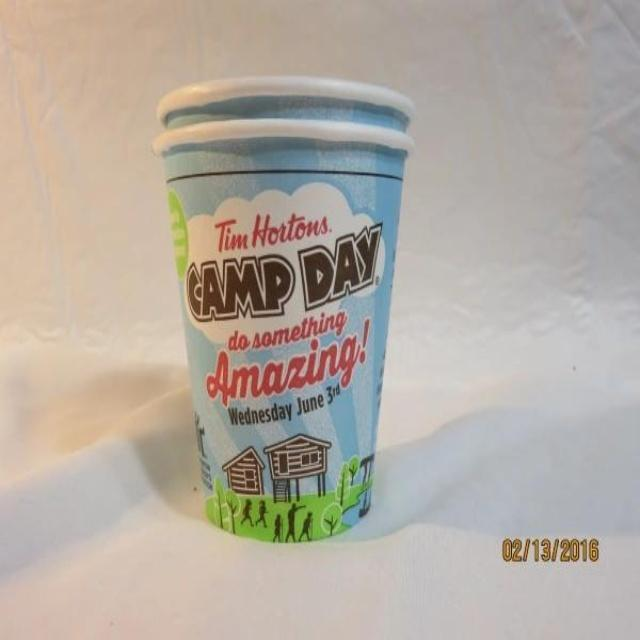timmies: (151, 116, 415, 542)
